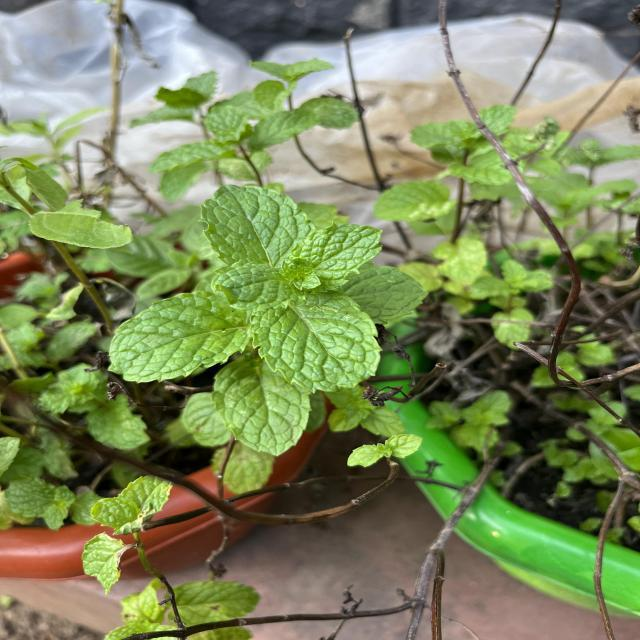Mentha spicata: (248, 290, 384, 394), (106, 290, 252, 385), (211, 361, 313, 458), (198, 184, 319, 265), (290, 222, 384, 293)
